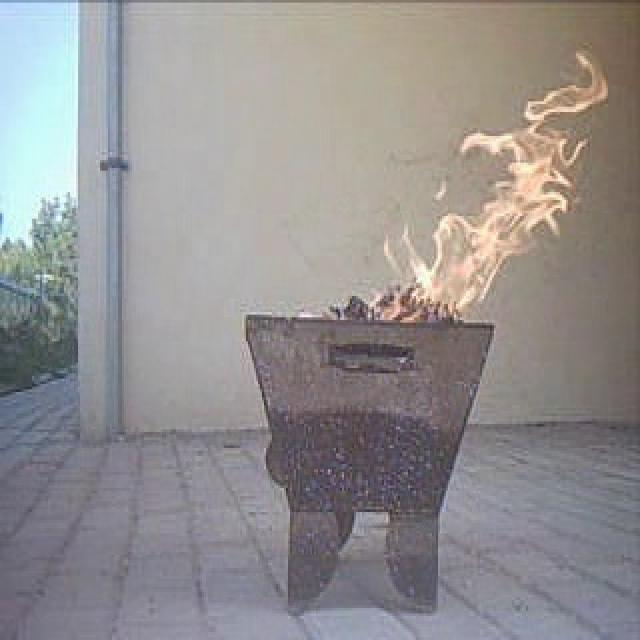fire: (365, 61, 610, 322)
